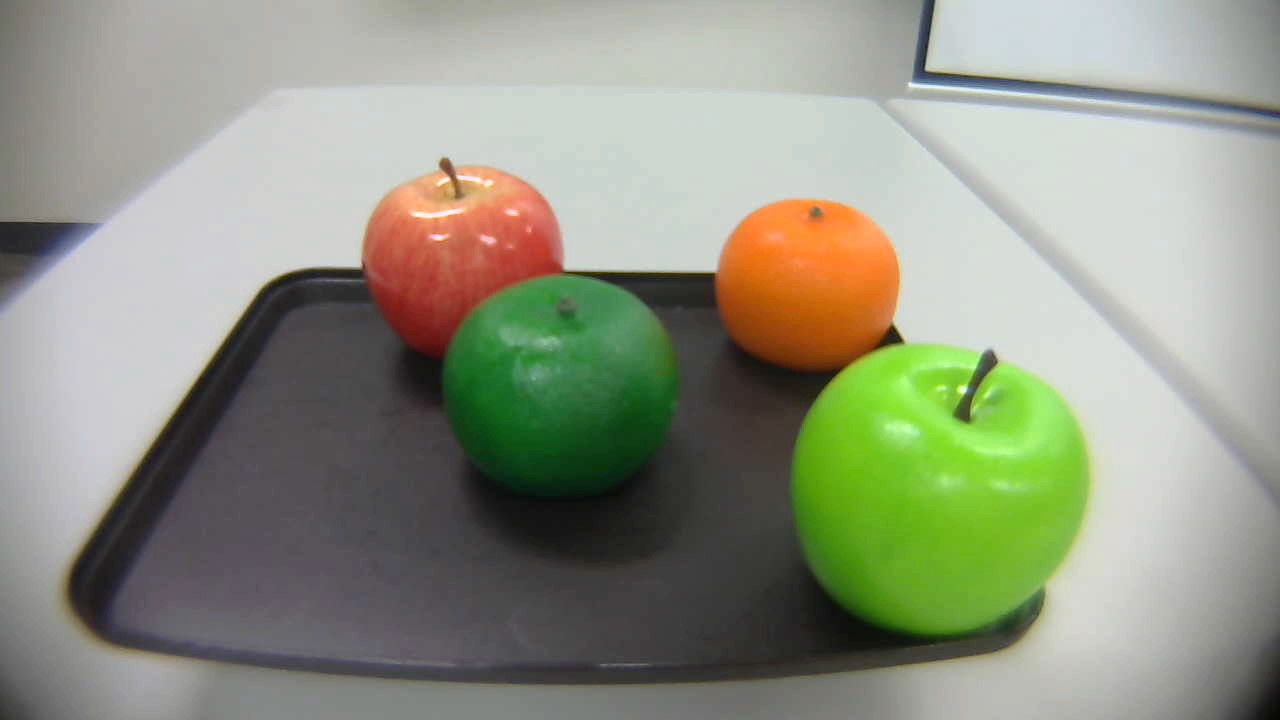green apple: (771, 329, 1092, 632)
green orange: (427, 276, 690, 501)
orange: (707, 193, 910, 379)
red apple: (355, 155, 565, 363)
